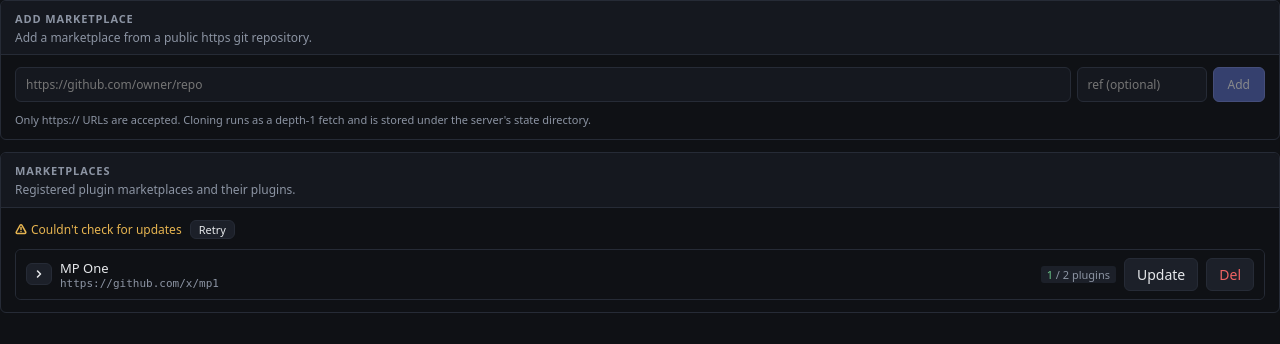
Test: MarketplaceTab update-check states › offers a Retry after a whole-check failure and recovers on click
What coordinates should you click on to do the following:
click the button "Retry"
I would click on:
 (212, 229)
Its box is [190,220,235,239].
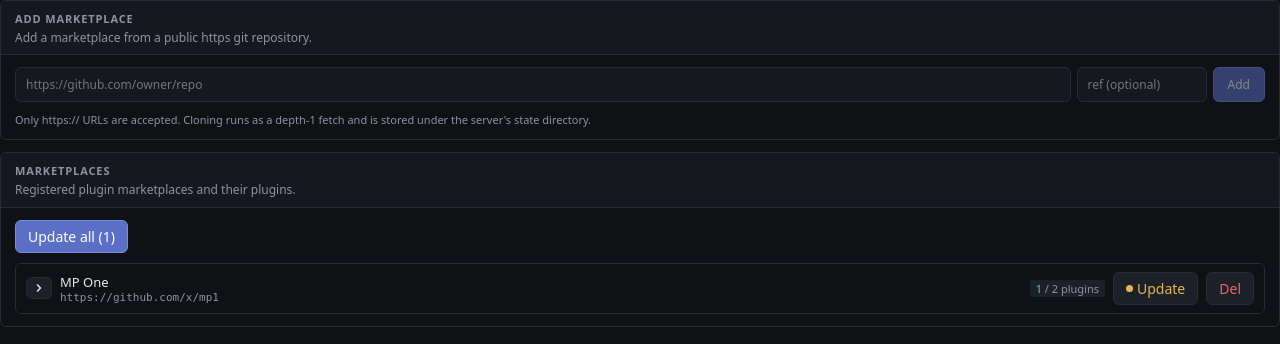
Check: the text "Update all (1)" is shown, box [15,220,128,253]
Check: the text "Couldn't check for updates" is gone
